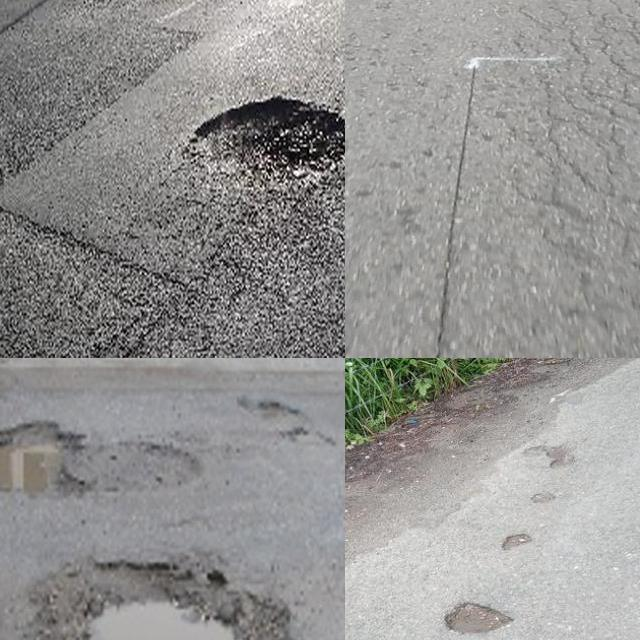Lubang: (47, 562, 290, 640), (183, 94, 345, 187), (0, 430, 90, 502), (445, 598, 512, 634)
Retak Buaya: (493, 0, 640, 358)
